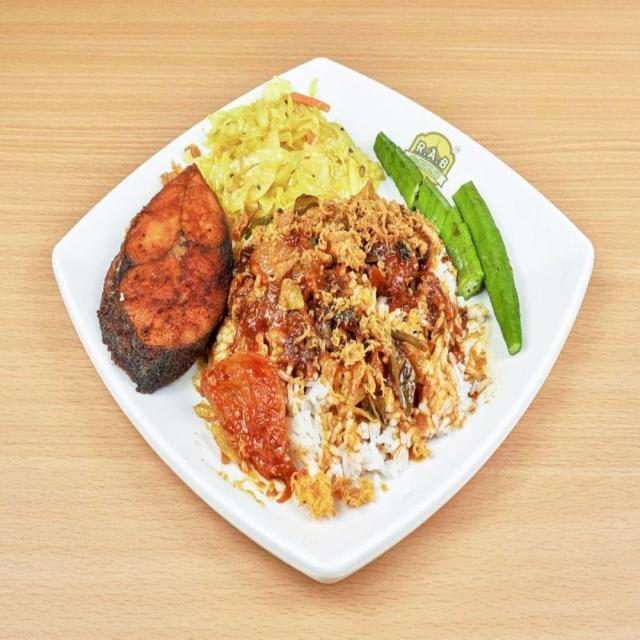Fish: (96, 165, 235, 394)
Plate: (52, 58, 593, 581)
Rice: (194, 198, 486, 513)
Vegetables: (378, 135, 524, 357), (195, 83, 378, 233)
